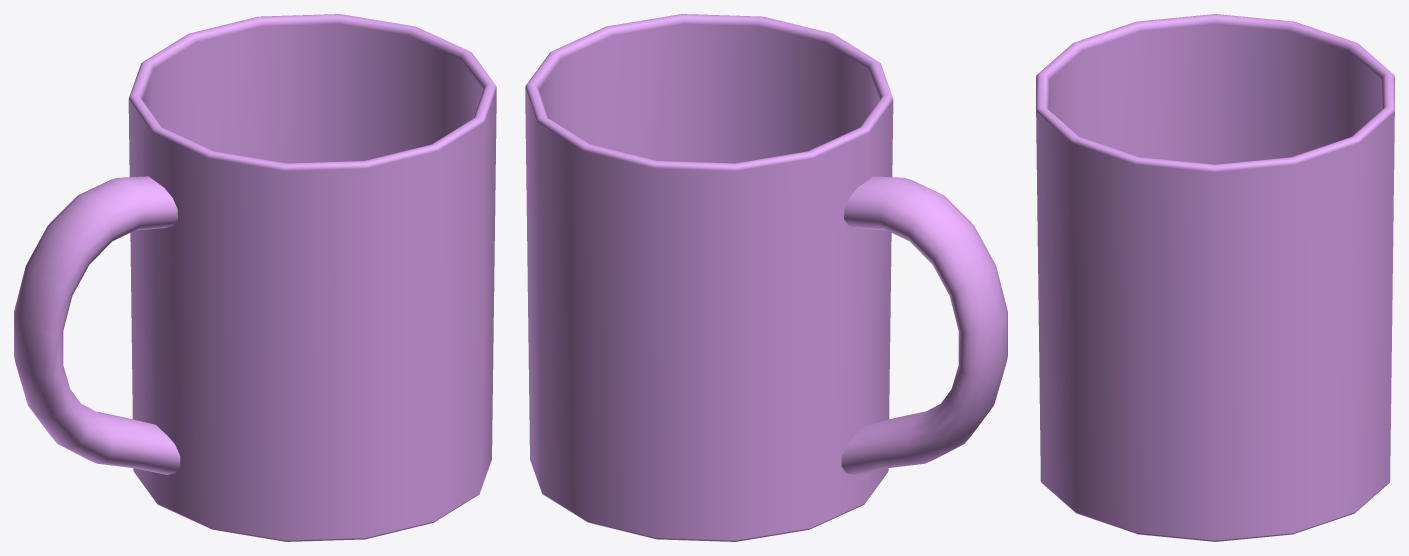
The model's file is PR_mug.fbx.
3 renders of one model, left to right at view 1: azimuth 30°, elevation 25°; view 2: azimuth 150°, elevation 25°; view 3: azimuth 270°, elevation 25°, orthographic.
Parts seen in each view (by area): view 1: mug; view 2: mug; view 3: mug.
Boxes of the visible parts, <box> form: mug: <box>14,14,496,541</box>; mug: <box>525,14,1007,541</box>; mug: <box>1036,14,1394,541</box>.
Bounding box in the file's own units: 2398 × 1922 × 1657.
1 material, 1 textured.
